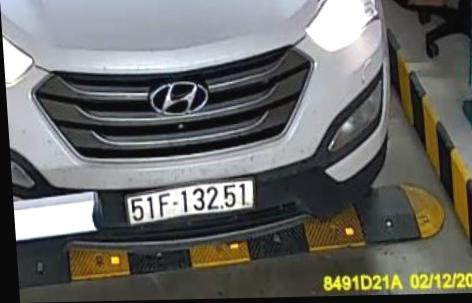License_Plate: (123, 181, 259, 223)
